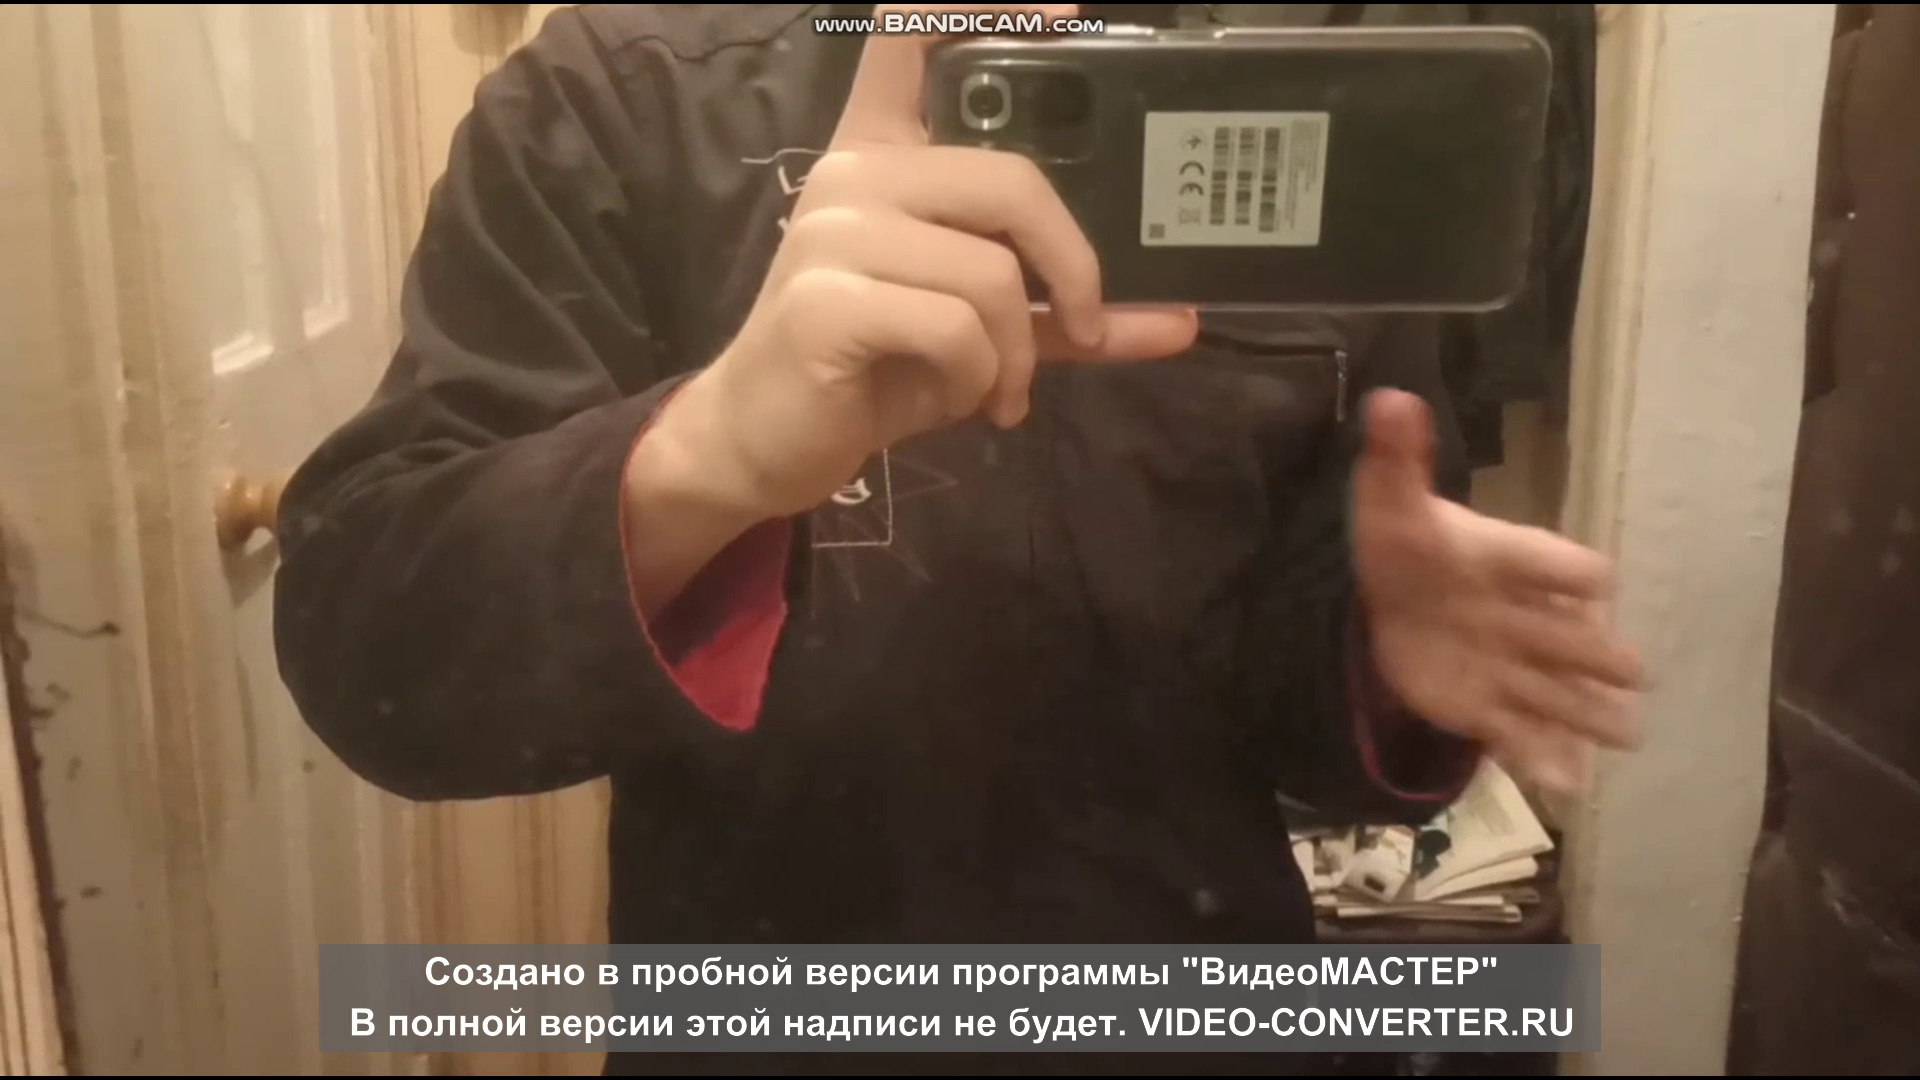Ладонь: (1350, 388, 1652, 802)
